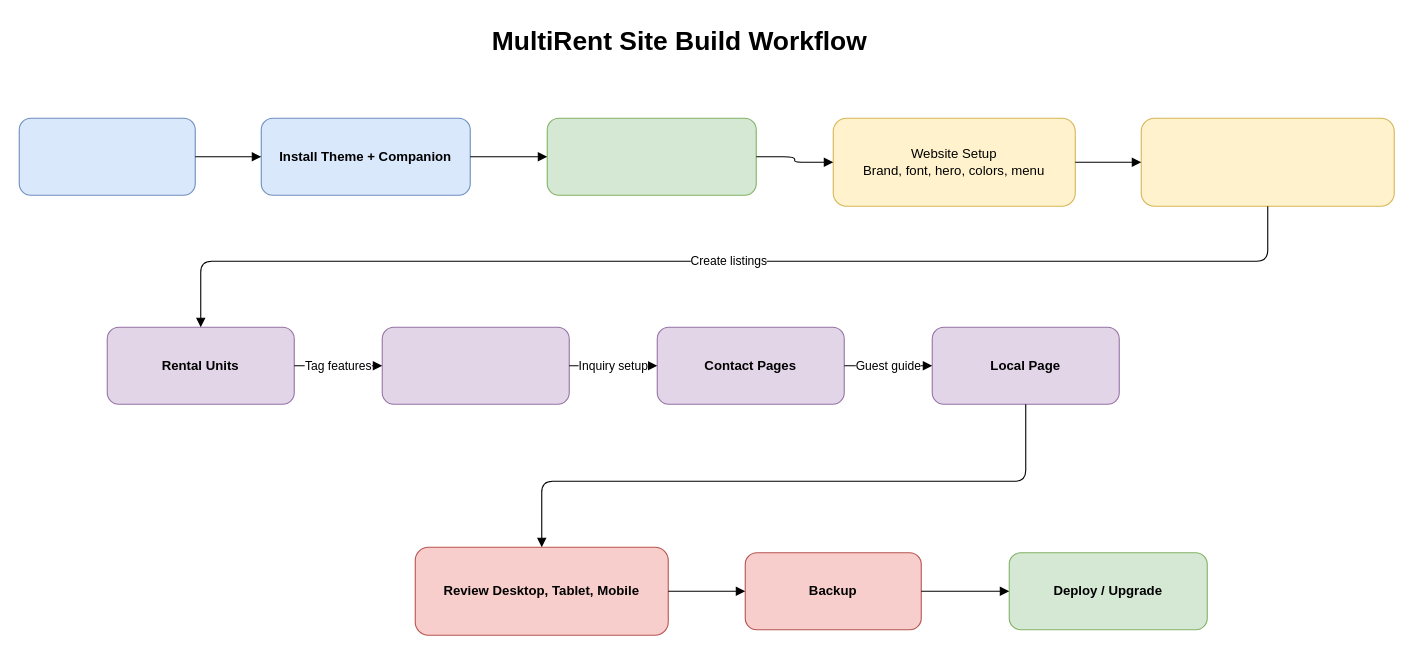
Some shapes in this 1414 by 655 pixel diagram are drawn without their labels. The box of each missing label's shape, as (x1, y1, x2, y2) in pixels:
Amenities: (381, 326, 569, 404)
Create Starter Content: (546, 117, 756, 195)
Pages & Buttons Apartment pages, contact pages, hero buttons: (1140, 117, 1394, 206)
Start WordPress: (18, 117, 195, 195)
